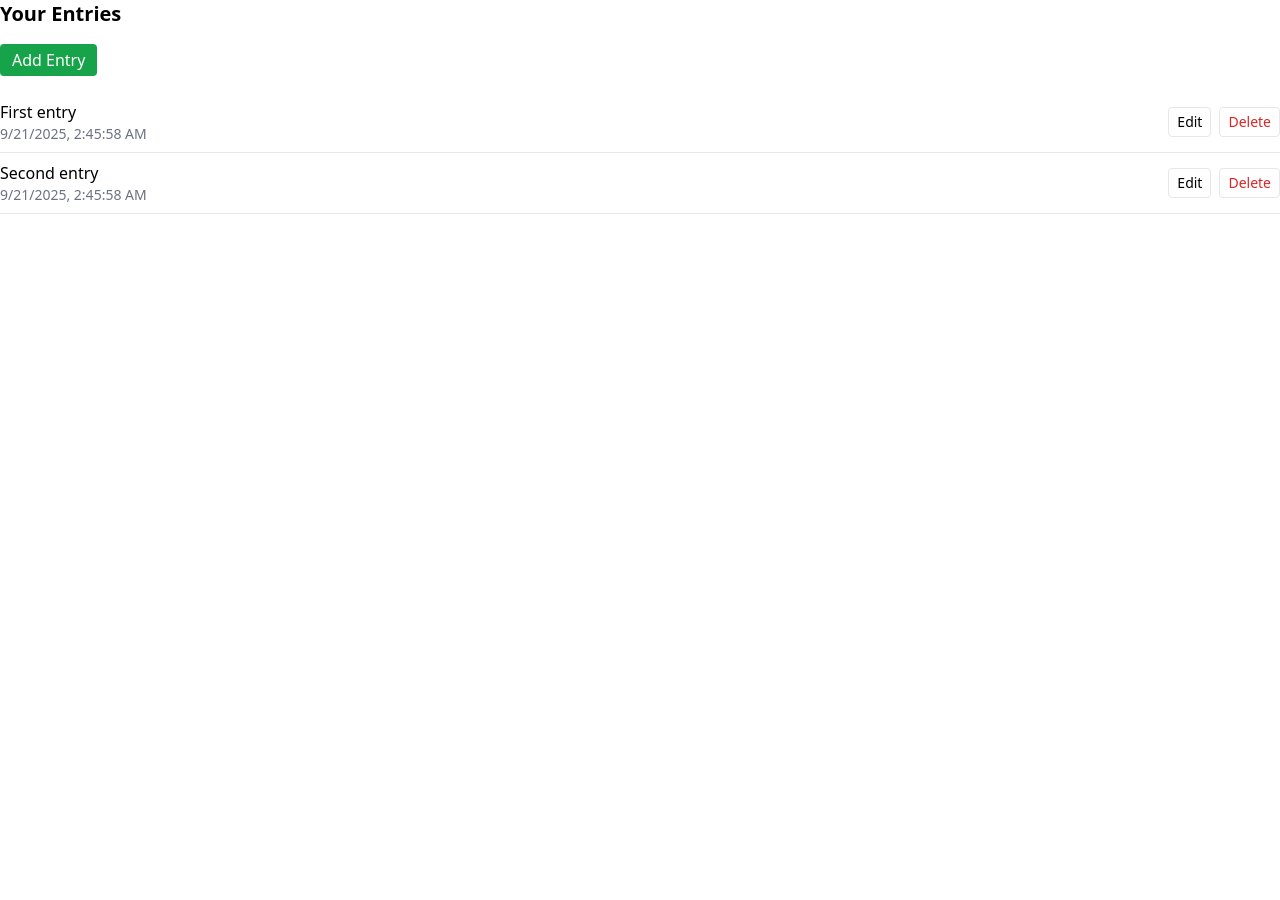
Entries create flow › shows error on server validation failure
Expected: the element with test id "entries-list" is shown, [0, 0, 1279, 214]
Click the button with test id "open-new-entry" at [49, 60], box [0, 44, 97, 76]
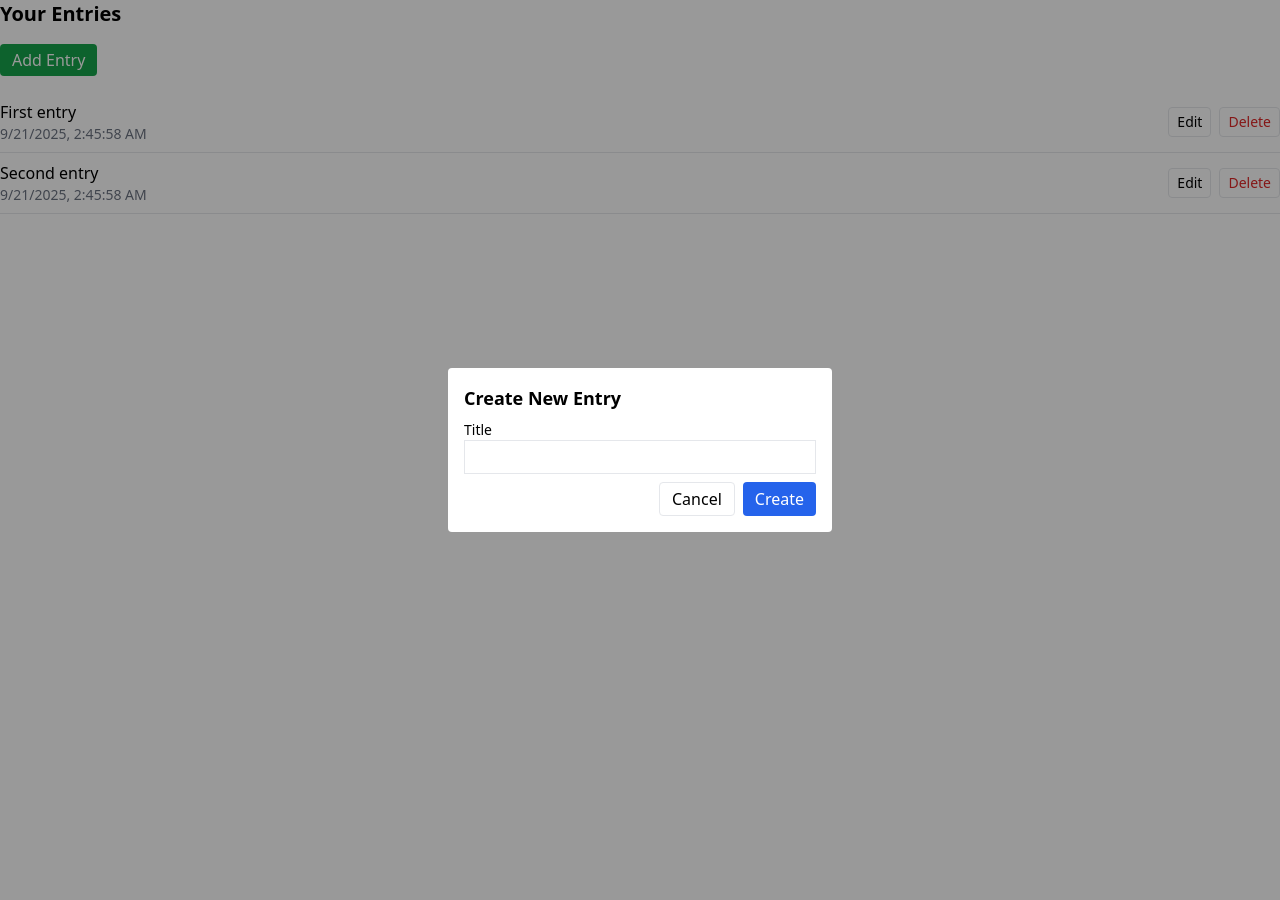
Type "Invalid Title" into the field at [640, 457], box [464, 440, 816, 474]
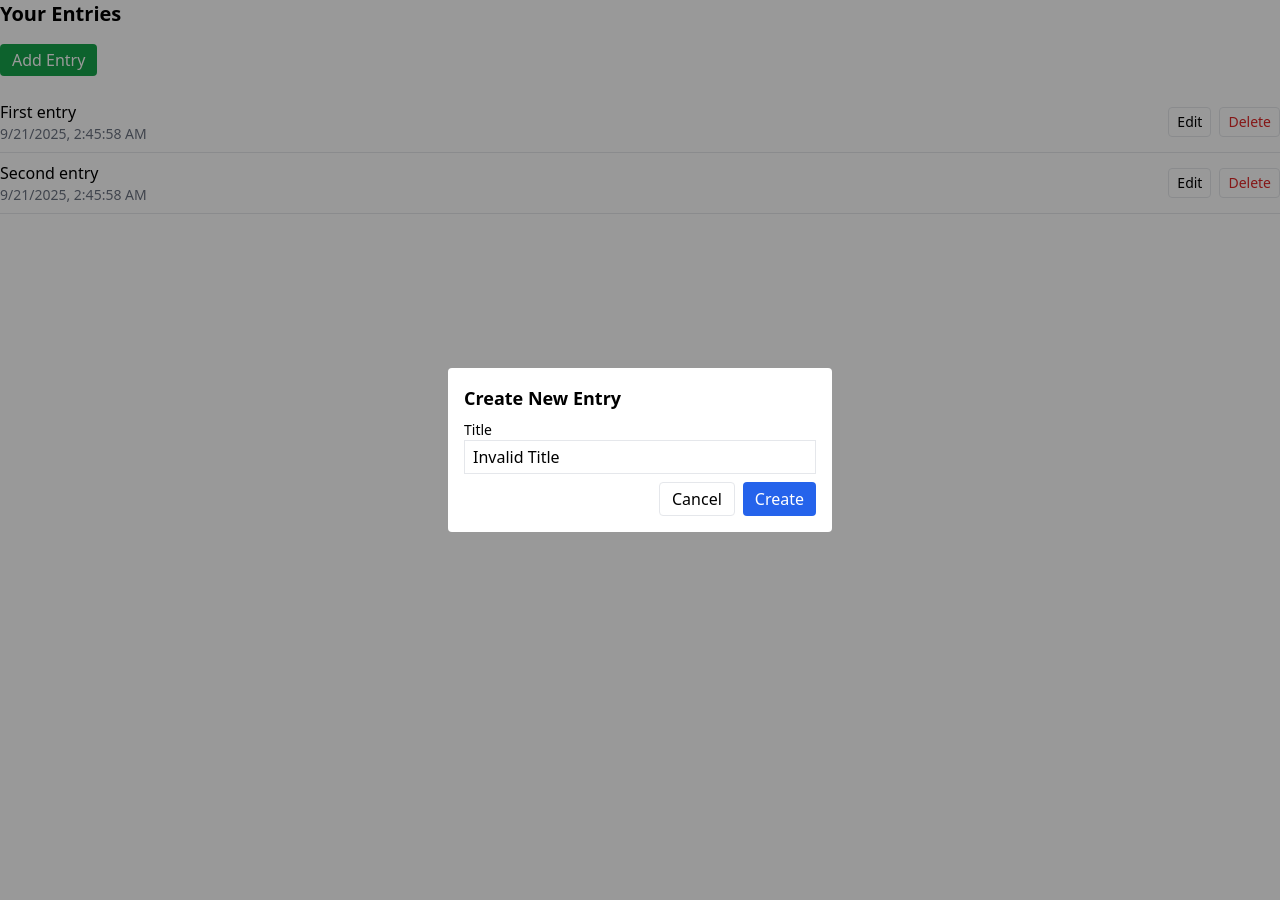
Click the button "Create" at [779, 499], box [743, 482, 816, 516]
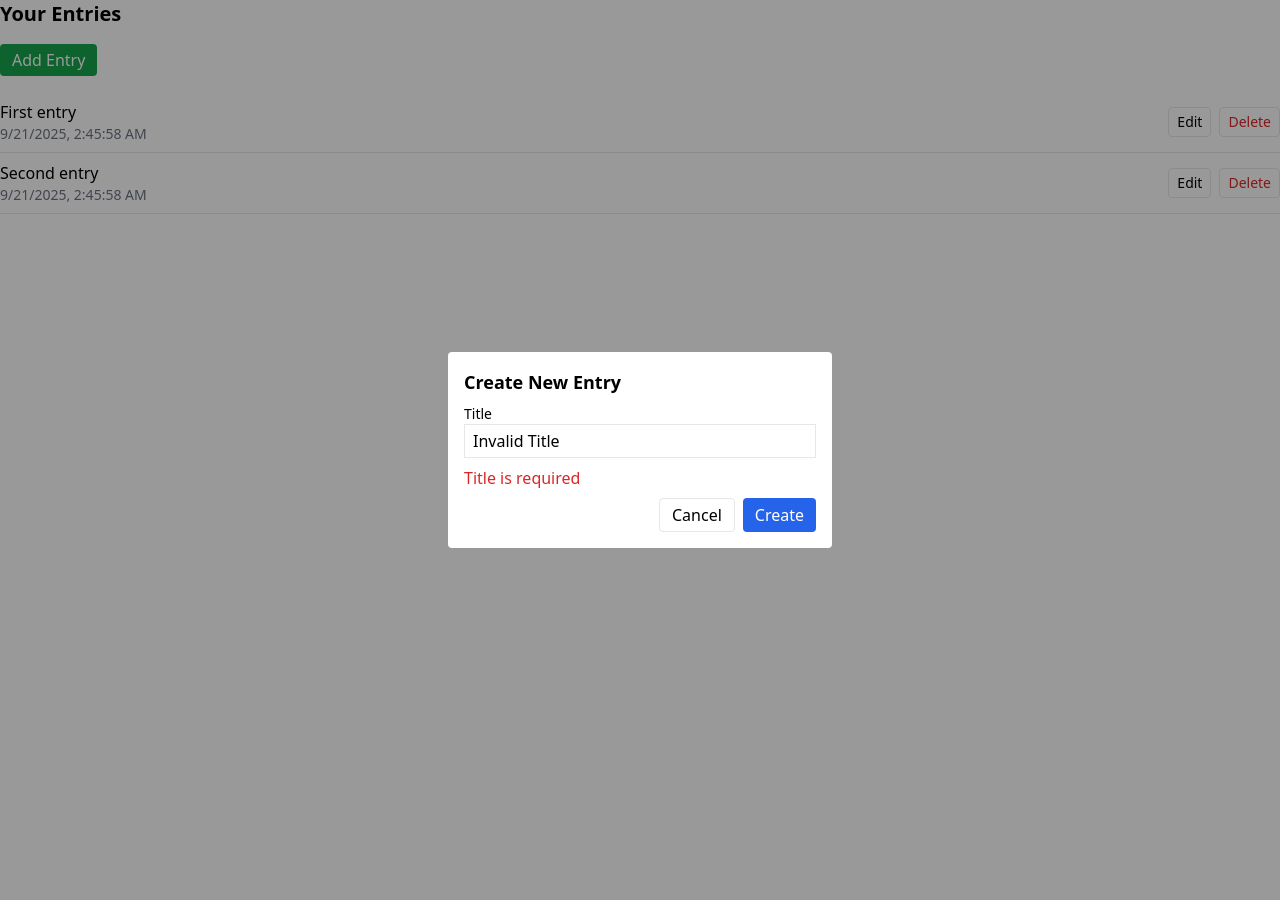
Now the text with test id "new-entry-error" reads "Title is required", box [464, 467, 580, 489]
